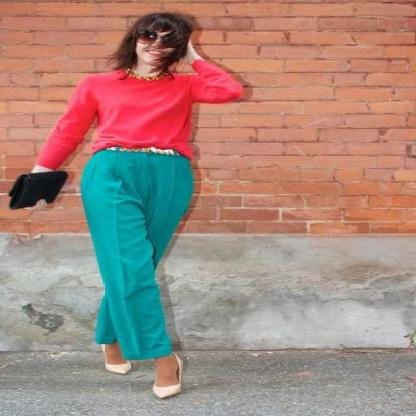bag: (8, 171, 68, 207)
pants: (81, 146, 194, 359)
shirt: (40, 58, 236, 171)
shoe: (105, 361, 180, 396)
